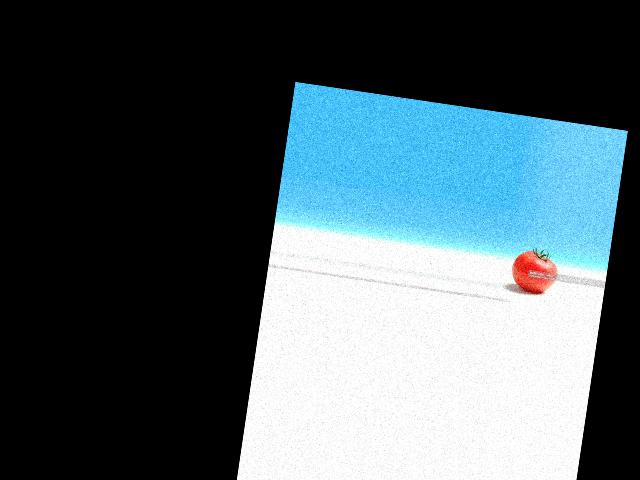tomato: (510, 248, 560, 294)
